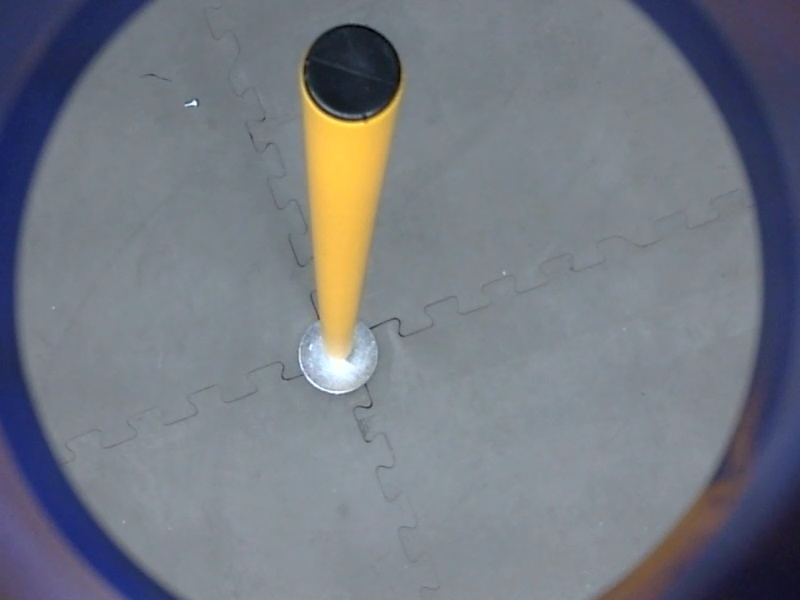tip: (293, 18, 409, 128)
